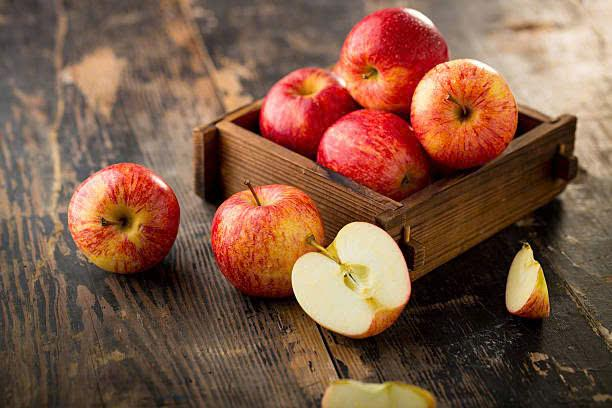apple: (293, 218, 412, 345), (60, 158, 185, 275), (205, 183, 316, 297), (411, 60, 529, 166), (337, 11, 439, 102), (329, 112, 426, 201)
